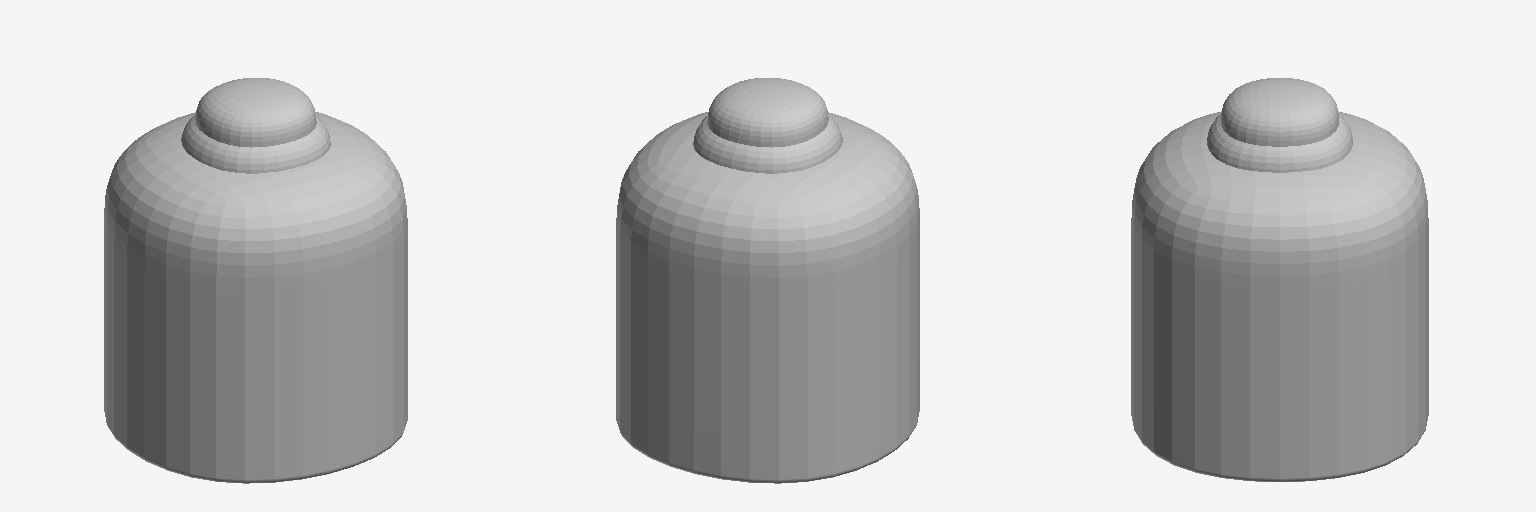
The model's file is button 1.obj.
The picture shows the model from 3 angles: view 1: azimuth 30°, elevation 25°; view 2: azimuth 150°, elevation 25°; view 3: azimuth 270°, elevation 25°; orthographic projection.
Visible parts, largest first — view 1: Cube, Cube.001; view 2: Cube, Cube.001; view 3: Cube, Cube.001.
Part boxes in pixels (x1,y1,x2,y2): Cube: (104,112,407,483); Cube.001: (195,78,316,147); Cube: (616,112,919,483); Cube.001: (707,78,828,147); Cube: (1131,111,1428,481); Cube.001: (1221,78,1338,146).
Bounding box in the file's own units: 3.67 × 4.52 × 3.67.